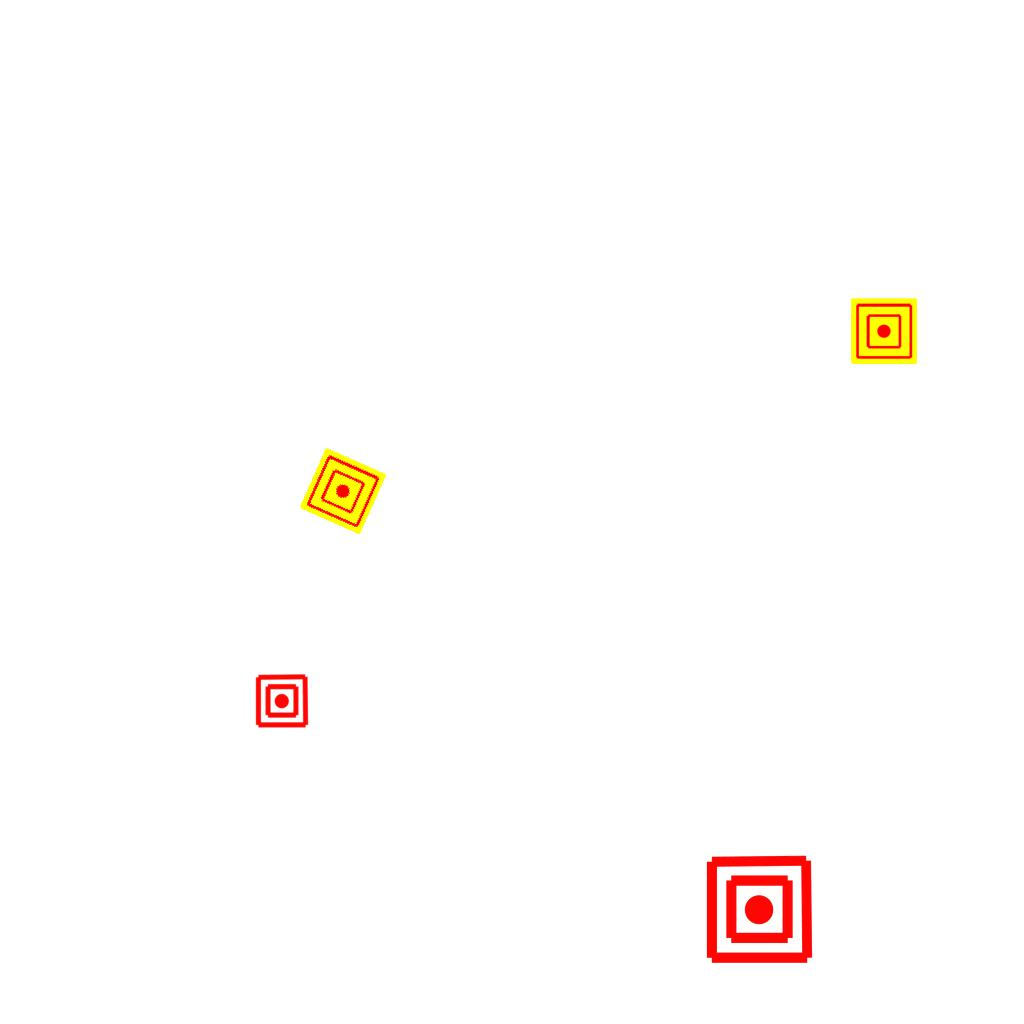NAM-Nichtautomatischer_Melder: (703, 853, 816, 966), (299, 447, 387, 535), (851, 298, 917, 364), (254, 673, 310, 729)
